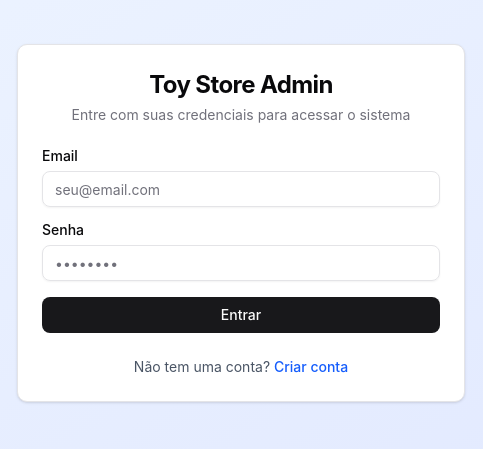
Test: Login Flow E2E › should show validation errors when submitting empty fields
// Clicar no botão sem preencher os campos
Click the button with test id "login-button". click: (241, 315)
box: [42,297,440,333]
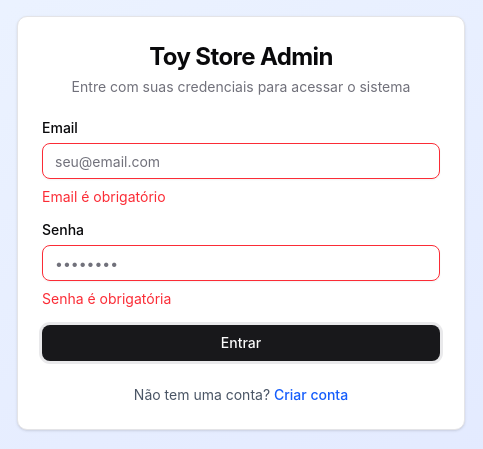
Now the text "Email é obrigatório" is shown, box [42,188,166,205]
Now the text "Senha é obrigatória" is shown, box [42,290,171,307]
